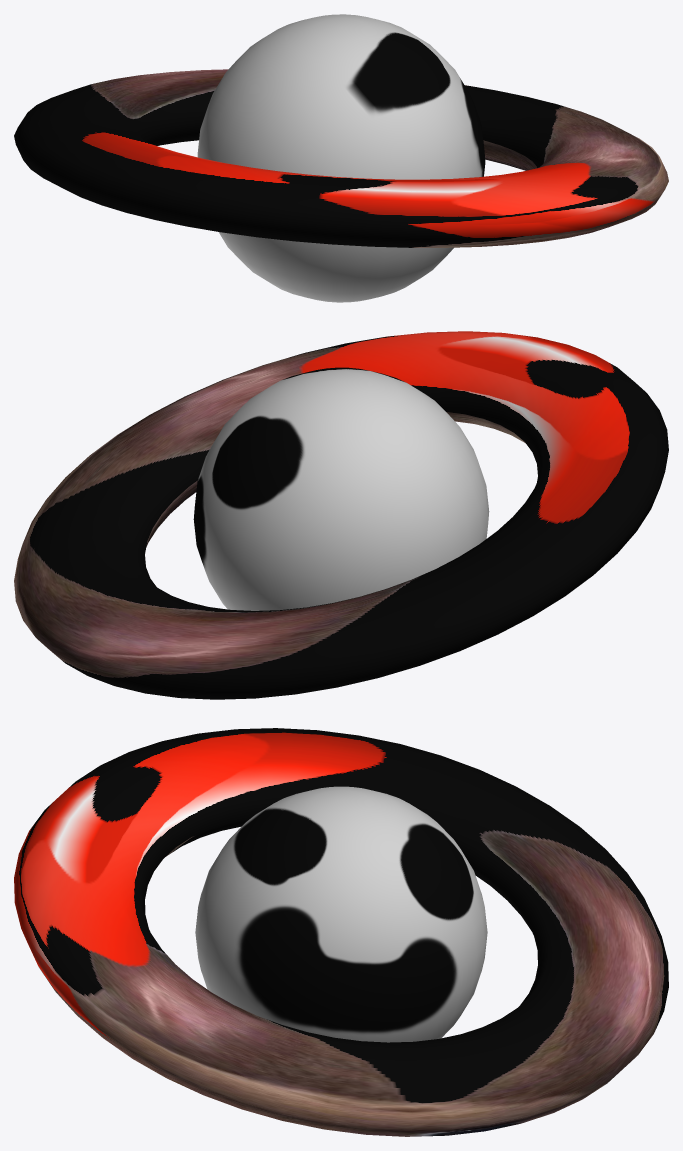
File: saturn.glb
3 renders of one model, top to bottom at view 1: azimuth 30°, elevation 25°; view 2: azimuth 150°, elevation 25°; view 3: azimuth 270°, elevation 25°, orthographic. The views are drawn at different scales.
Parts seen in each view (by area): view 1: Torus, Sphere; view 2: Torus, Sphere; view 3: Torus, Sphere.
Part boxes in pixels (x1,y1,x2,y2): Torus: [14, 69, 668, 247]; Sphere: [197, 14, 485, 302]; Torus: [14, 331, 668, 699]; Sphere: [193, 367, 489, 610]; Torus: [14, 728, 668, 1136]; Sphere: [195, 786, 487, 1042].
Bounding box in the file's own units: 4.48 × 2 × 4.48.
2 materials, 2 textured.
